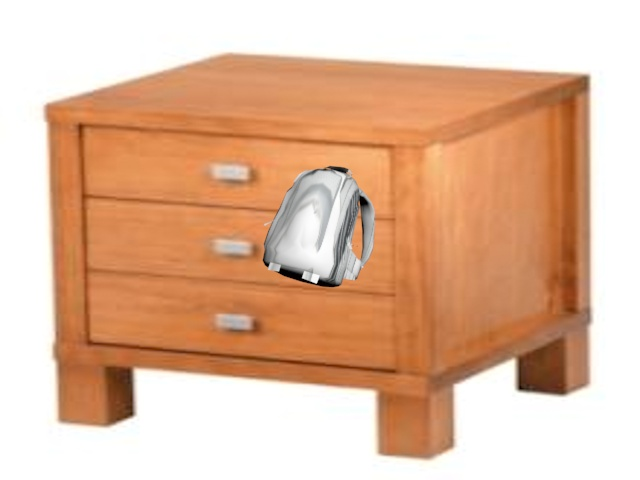back_pack: (257, 161, 376, 288)
